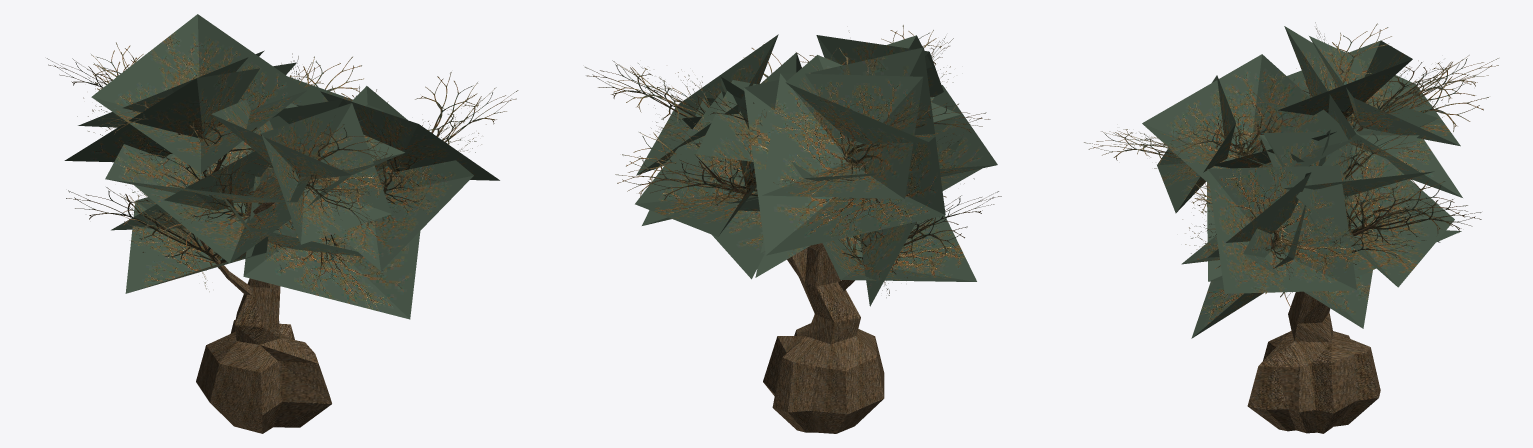
Rendered from decd_oaktreebranches_l1.fbx.
3 renders of one model, left to right at view 1: azimuth 30°, elevation 25°; view 2: azimuth 150°, elevation 25°; view 3: azimuth 270°, elevation 25°, orthographic. The views are drawn at different scales.
Parts seen in each view (by area): view 1: mesh_node; view 2: mesh_node; view 3: mesh_node.
Part boxes in pixels (<box>): mesh_node: <box>47,14,518,433</box>; mesh_node: <box>585,25,1001,433</box>; mesh_node: <box>1084,22,1498,433</box>.
Bounding box in the file's own units: 26.68 × 21.47 × 24.28.
